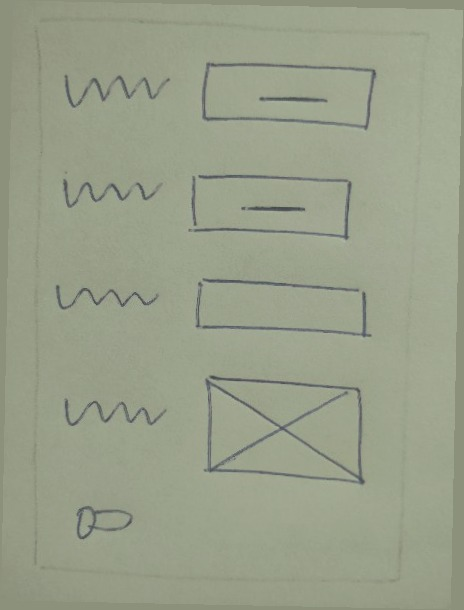button: (192, 56, 386, 136), (184, 166, 358, 244)
image: (193, 368, 371, 496)
switch: (69, 495, 135, 549)
text: (54, 62, 171, 119), (54, 162, 169, 219), (50, 269, 165, 326), (55, 384, 170, 441)
text_input: (189, 266, 379, 349)
